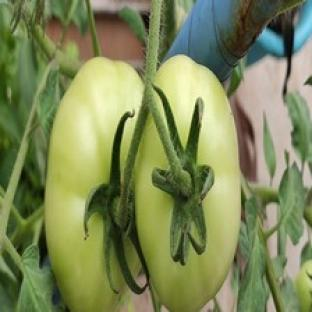Tomato: (136, 56, 240, 311), (45, 58, 143, 311), (296, 260, 311, 311)
